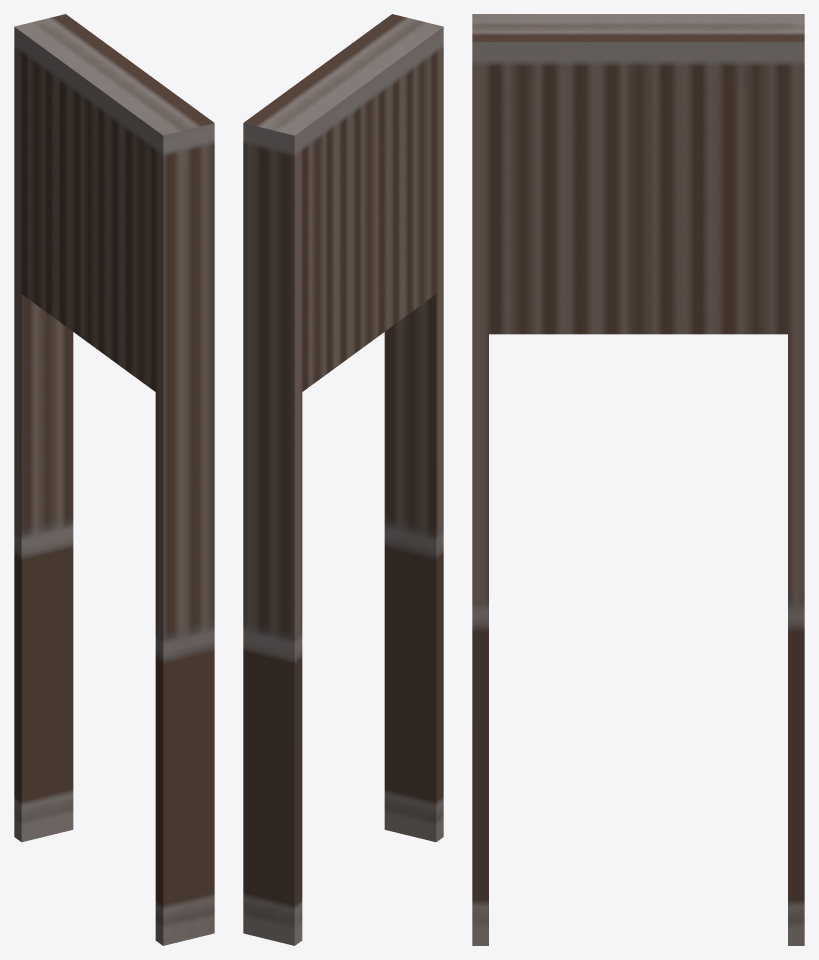
The model's file is WallSmall_Door.fbx.
The picture shows the model from 3 angles, left to right: view 1: azimuth 30°, elevation 25°; view 2: azimuth 150°, elevation 25°; view 3: azimuth 270°, elevation 25°; orthographic projection. The views are drawn at different scales.
Visible parts, largest first — view 1: WallSmall_Door; view 2: WallSmall_Door; view 3: WallSmall_Door.
Boxes of the visible parts, left/top/right/bottom form: WallSmall_Door: left=14, top=14, right=214, bottom=945; WallSmall_Door: left=243, top=14, right=443, bottom=945; WallSmall_Door: left=472, top=14, right=804, bottom=945.
Size of the model in its own units: 100 by 20 by 300.
